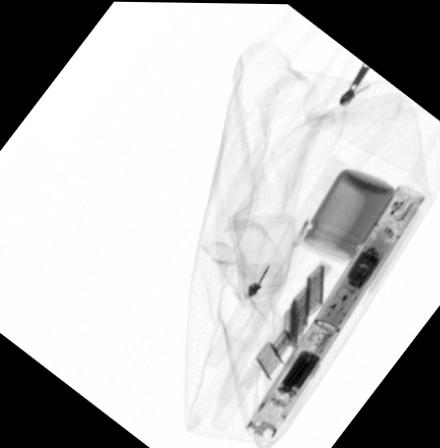Baton: (246, 181, 429, 443)
